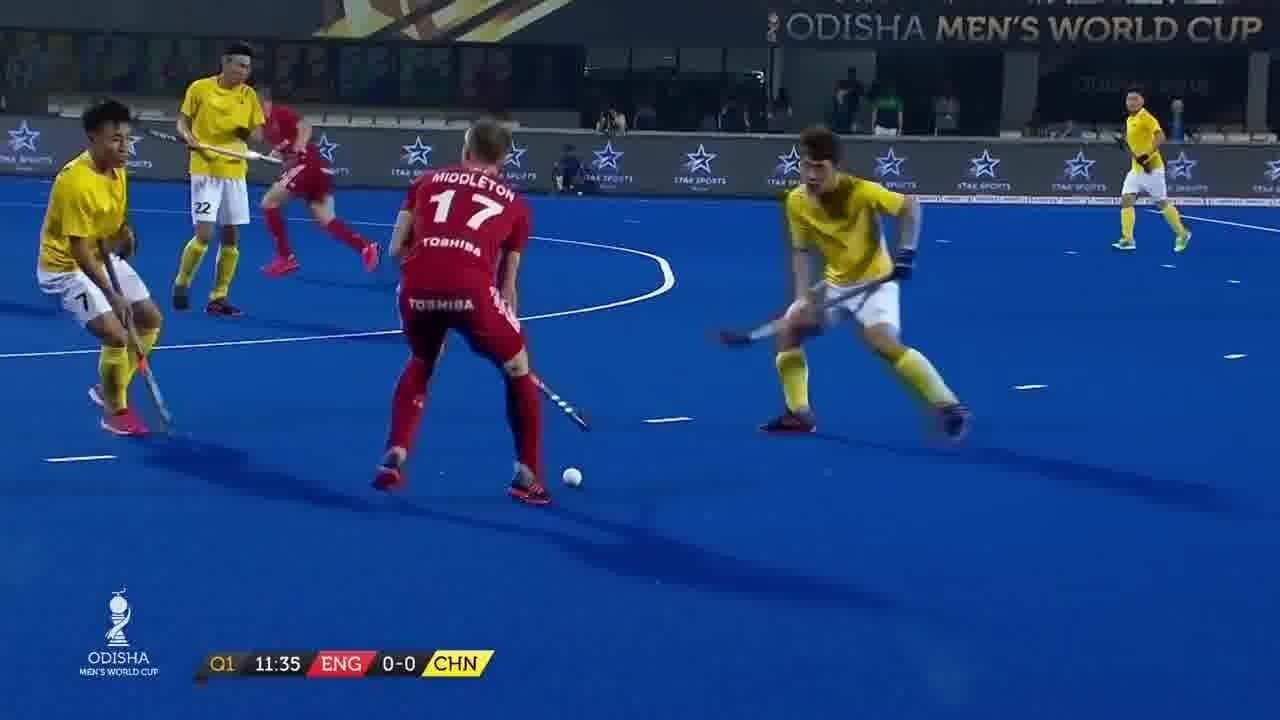ball: (558, 456, 598, 498)
